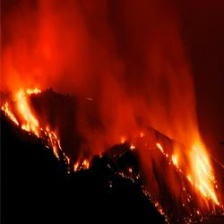fire: (3, 90, 104, 179), (108, 140, 217, 219)
